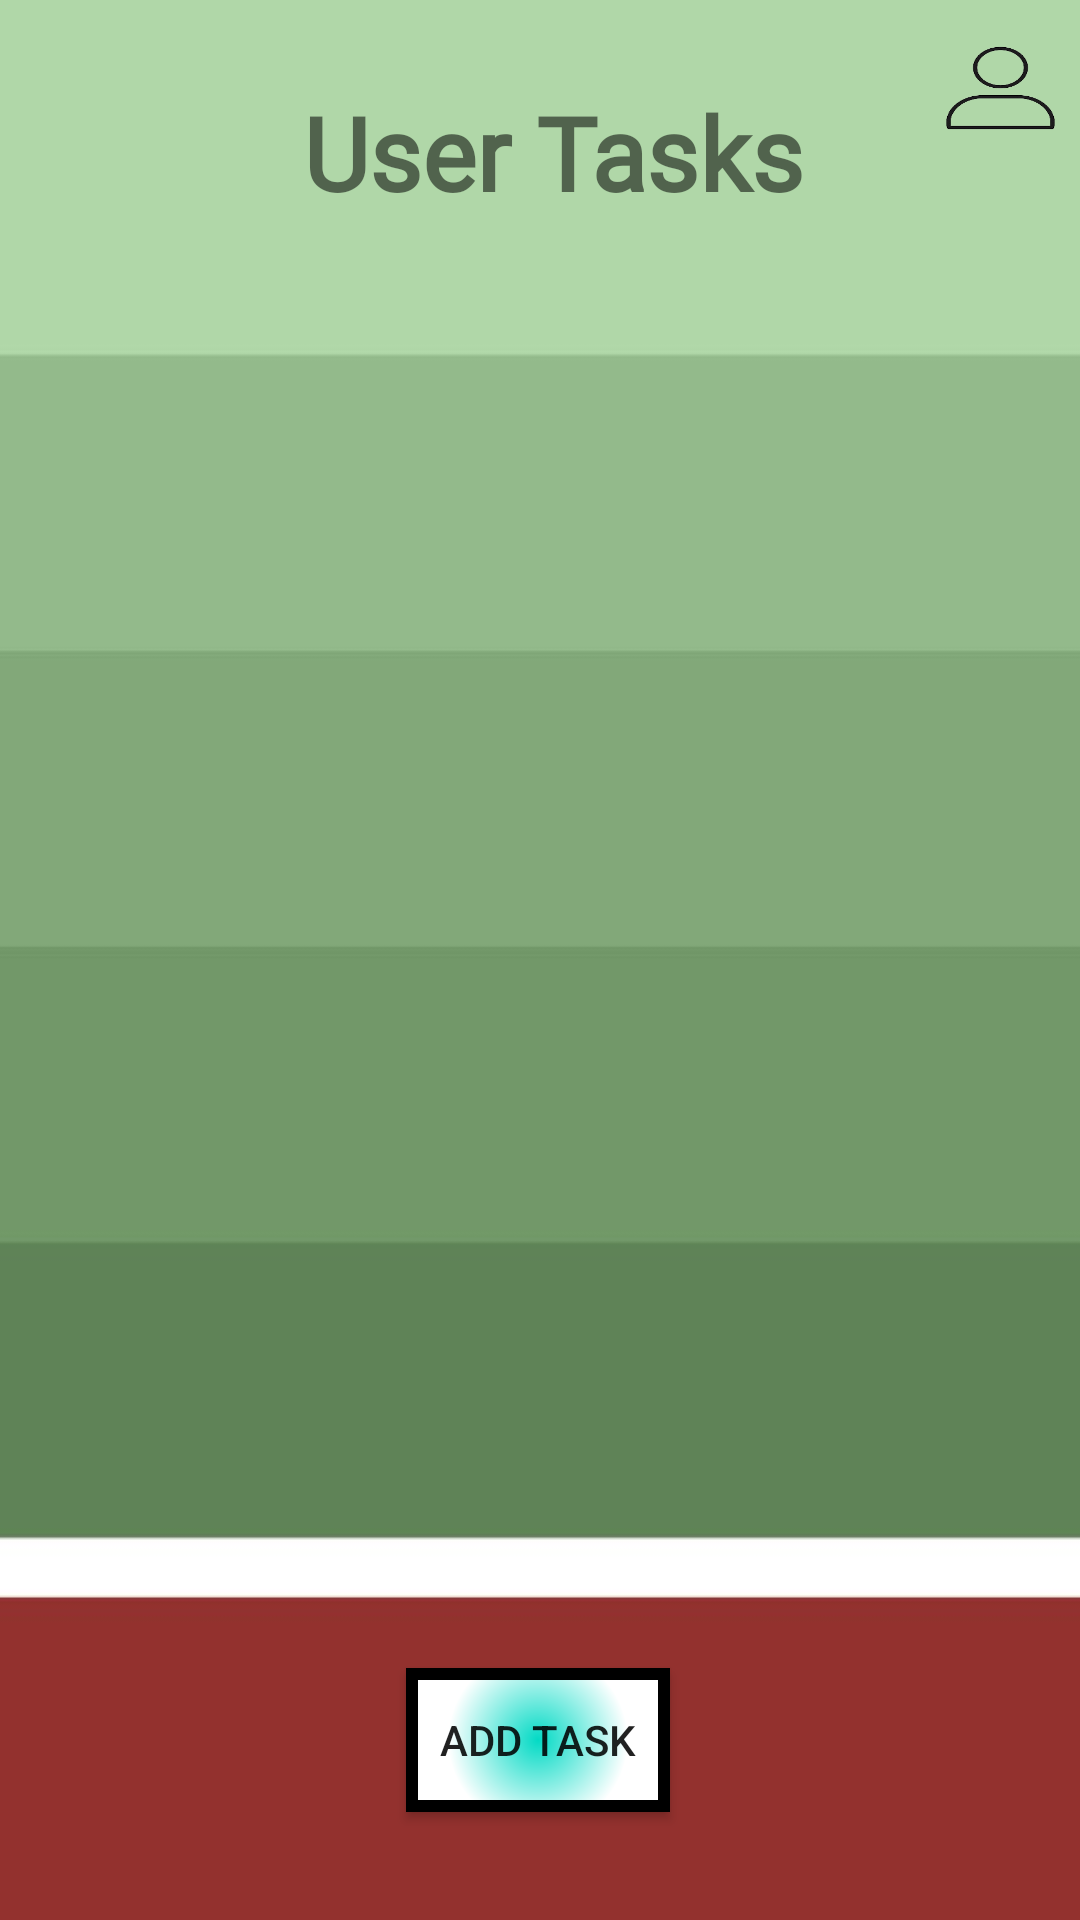

Screen size 1080px×1920px. Icon name, then its center in pixels as point (x, y):
person: point (1000, 88)
